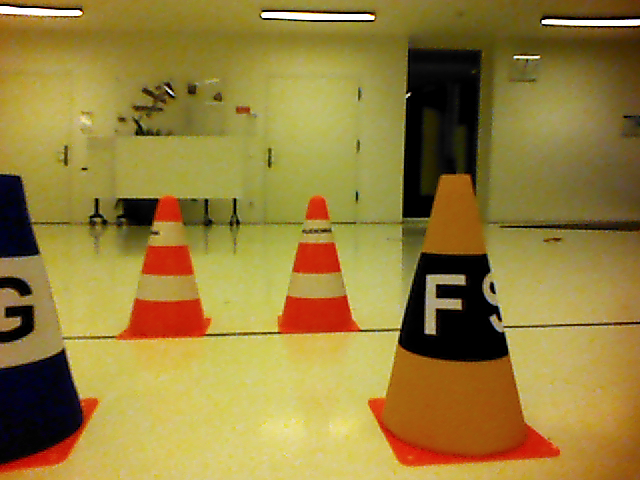bluecone: (1, 173, 85, 464)
orangeconesmall: (129, 198, 206, 332), (284, 195, 355, 328)
yellowcone: (385, 172, 529, 457)
